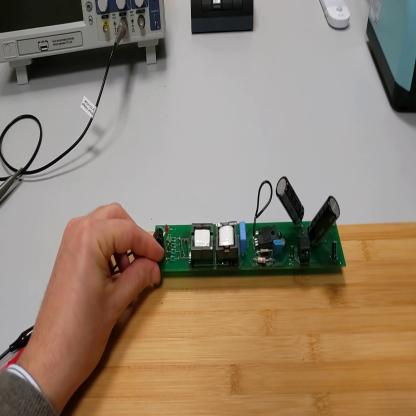hand: (36, 201, 163, 387)
high voltage board: (112, 180, 349, 284)
oscilloscope: (1, 1, 168, 85), (2, 166, 23, 204)
welder station: (367, 3, 416, 115)
working area: (64, 227, 416, 414)
